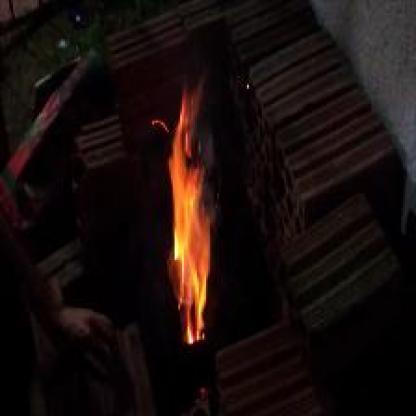fire: (151, 100, 221, 349)
